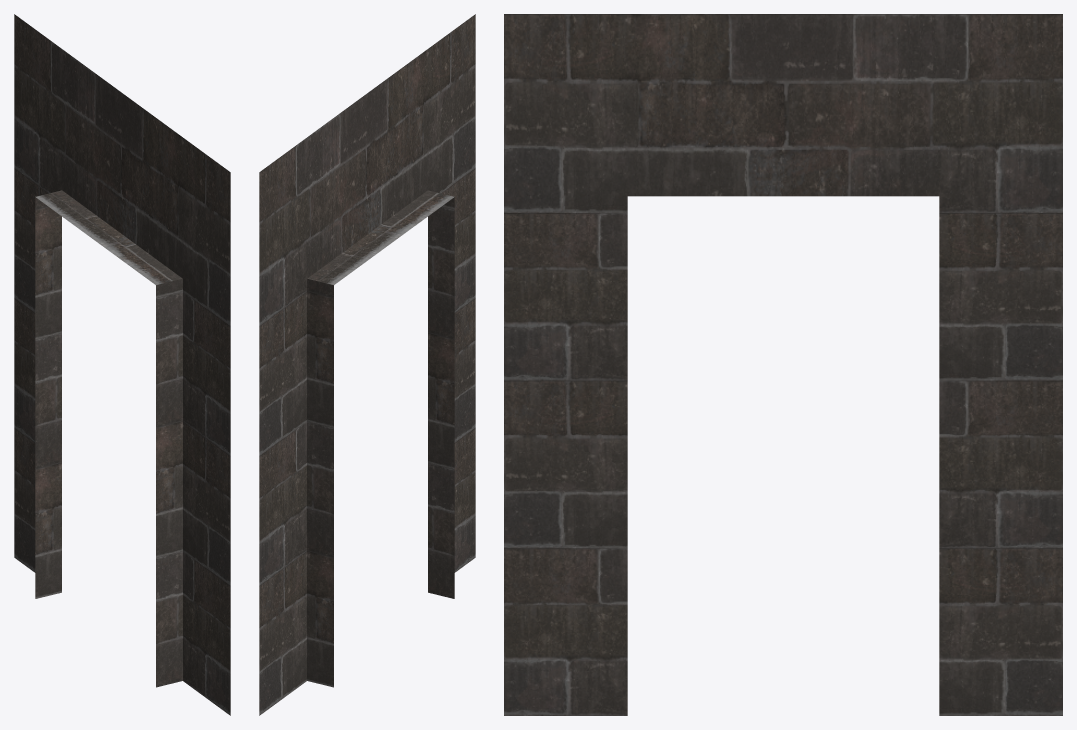
The model's file is Psychiatric_Ward_Basement_Upper_Wall_2m_Door.glb.
3 views of the same model, side by side, from view 1: azimuth 30°, elevation 25°; view 2: azimuth 150°, elevation 25°; view 3: azimuth 270°, elevation 25° (orthographic). The views are drawn at different scales.
Parts seen in each view (by area): view 1: Psychiatric_Ward_Basement_Upper_Wall_2m_Door; view 2: Psychiatric_Ward_Basement_Upper_Wall_2m_Door; view 3: Psychiatric_Ward_Basement_Upper_Wall_2m_Door.
Part boxes in pixels (bbox=[...]): Psychiatric_Ward_Basement_Upper_Wall_2m_Door: bbox=[14, 14, 230, 715]; Psychiatric_Ward_Basement_Upper_Wall_2m_Door: bbox=[259, 14, 475, 715]; Psychiatric_Ward_Basement_Upper_Wall_2m_Door: bbox=[504, 14, 1062, 715].
Size of the model in its own units: 0.1437 by 2.77 by 2.
Materials: 1 (1 with a texture image).
